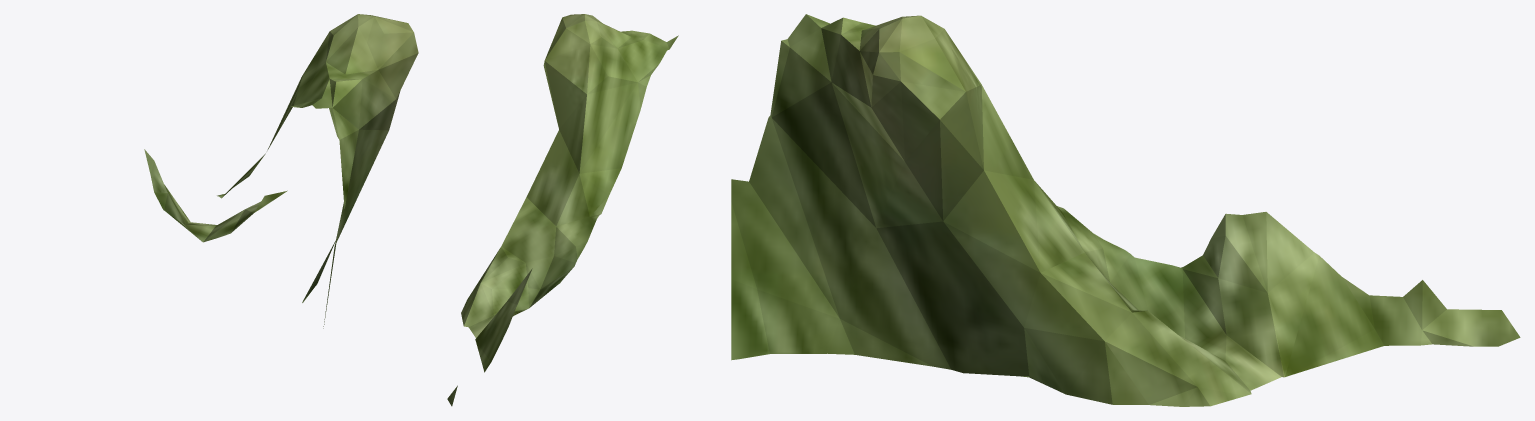
3 views of the same model, side by side, from view 1: azimuth 30°, elevation 25°; view 2: azimuth 150°, elevation 25°; view 3: azimuth 270°, elevation 25° (orthographic). The views are drawn at different scales.
Bounding box in the file's own units: 0.6461 × 1.55 × 3.02.
1 material, 1 textured.
